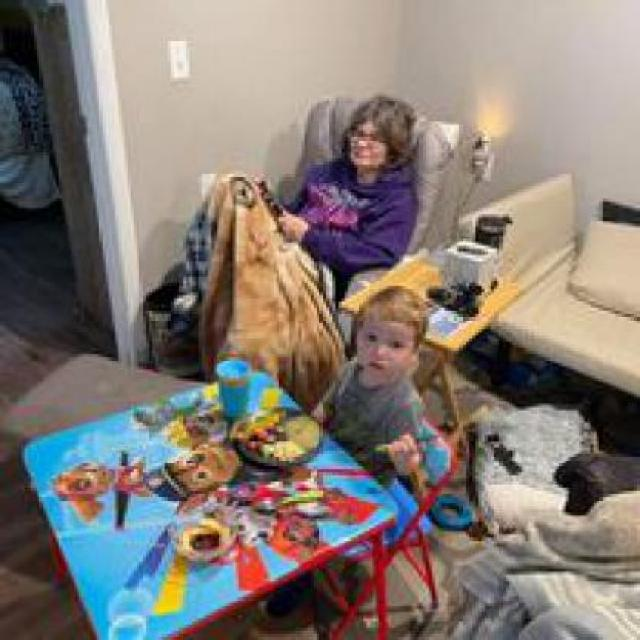hot dog: (248, 419, 286, 450)
macaroni and cheese: (274, 435, 308, 457)
